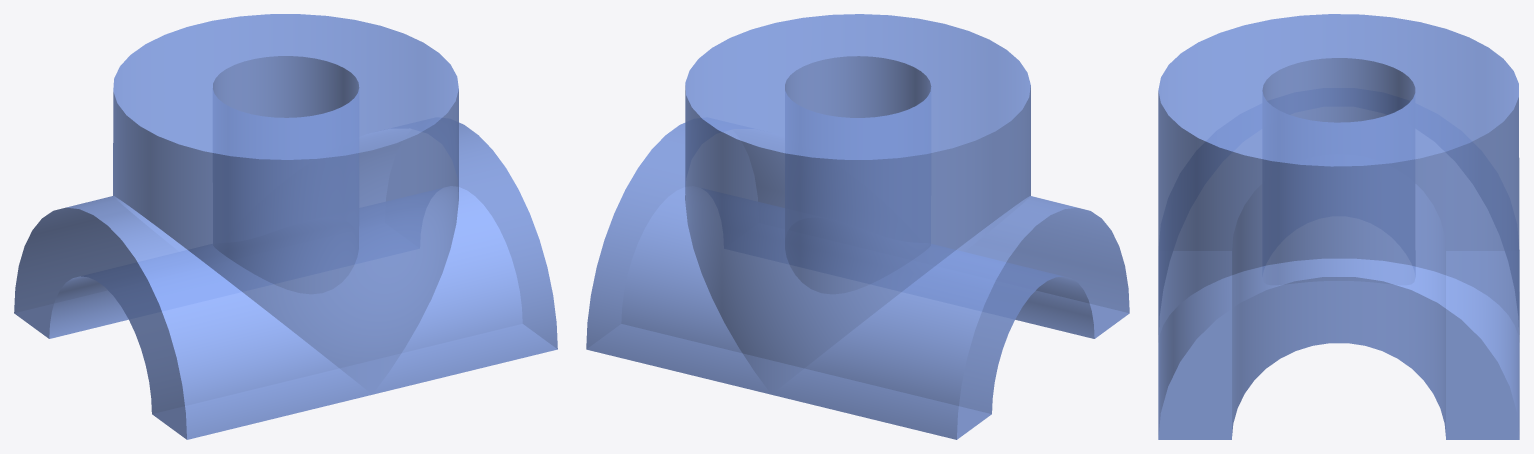
3 renders of one model, left to right at view 1: azimuth 30°, elevation 25°; view 2: azimuth 150°, elevation 25°; view 3: azimuth 270°, elevation 25°, orthographic. The views are drawn at different scales.
Parts seen in each view (by area): view 1: New-test4; view 2: New-test4; view 3: New-test4.
Boxes of the visible parts, <box> form: New-test4: <box>14,14,557,439</box>; New-test4: <box>586,14,1129,439</box>; New-test4: <box>1158,14,1519,439</box>.
Bounding box in the file's own units: 0.0365 × 0.023 × 0.0295.
